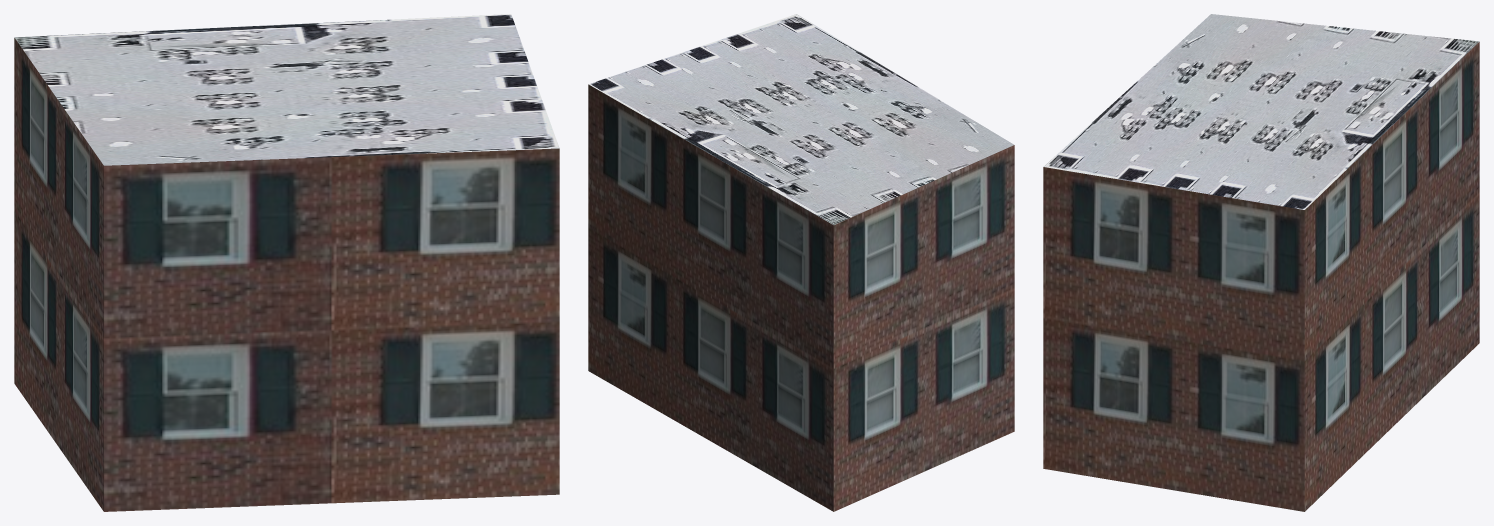
Rendered from ResTex__2241.fbx.
The picture shows the model from 3 angles, left to right: view 1: azimuth 30°, elevation 25°; view 2: azimuth 150°, elevation 25°; view 3: azimuth 270°, elevation 25°; orthographic projection. The views are drawn at different scales.
Visible parts, largest first — view 1: CityEngineMaterial_14_m, CityEngineMaterial_4_m; view 2: CityEngineMaterial_14_m, CityEngineMaterial_4_m; view 3: CityEngineMaterial_14_m, CityEngineMaterial_4_m.
Part boxes in pixels (x1,y1,x2,y2): CityEngineMaterial_14_m: (14, 38, 559, 511); CityEngineMaterial_4_m: (14, 14, 559, 165); CityEngineMaterial_14_m: (588, 84, 1014, 511); CityEngineMaterial_4_m: (589, 14, 1013, 224); CityEngineMaterial_14_m: (1043, 42, 1479, 511); CityEngineMaterial_4_m: (1043, 14, 1479, 209).
Size of the model in its own units: 8.36 by 6 by 7.86.
2 materials, 2 textured.
